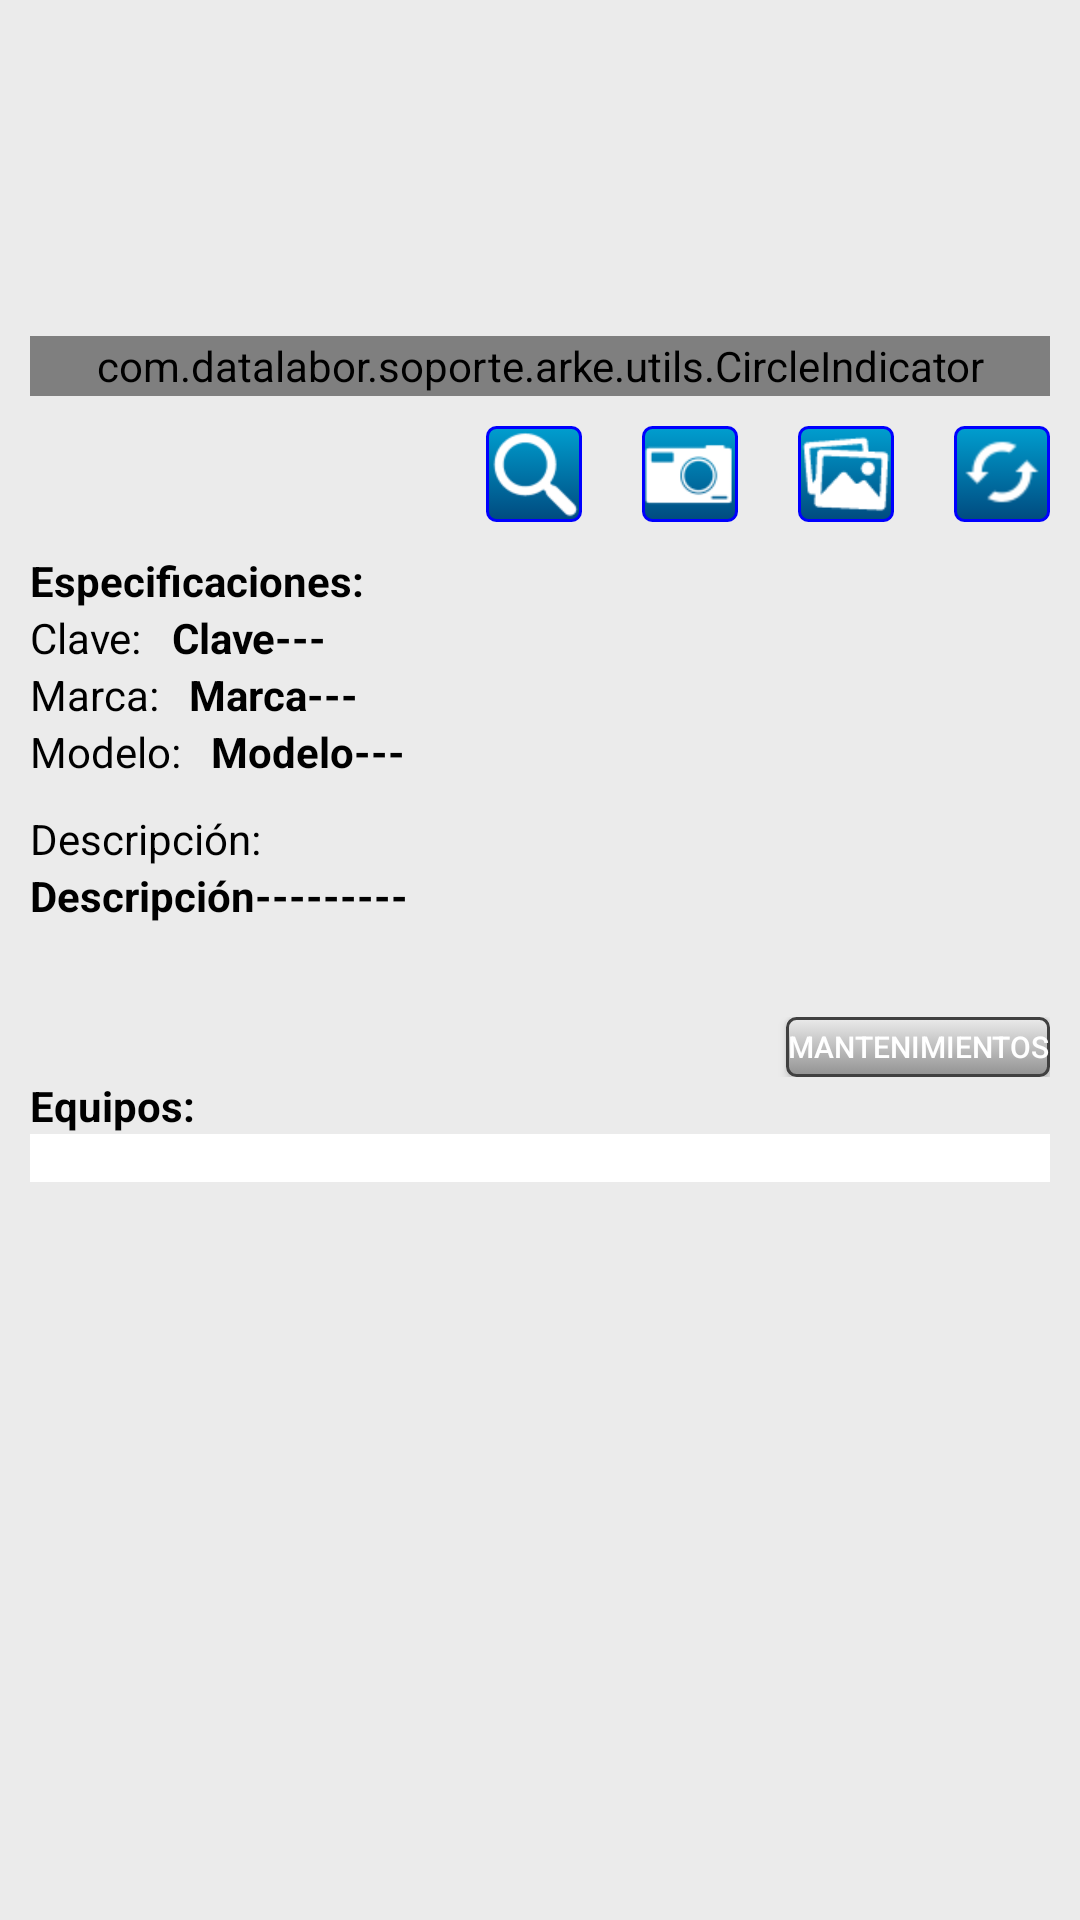

Screen size 1080px x 1920px. Icon name, then its center in pixels as (x=x, y=y):
camera: (x=690, y=474)
gallery: (x=846, y=474)
search: (x=534, y=474)
